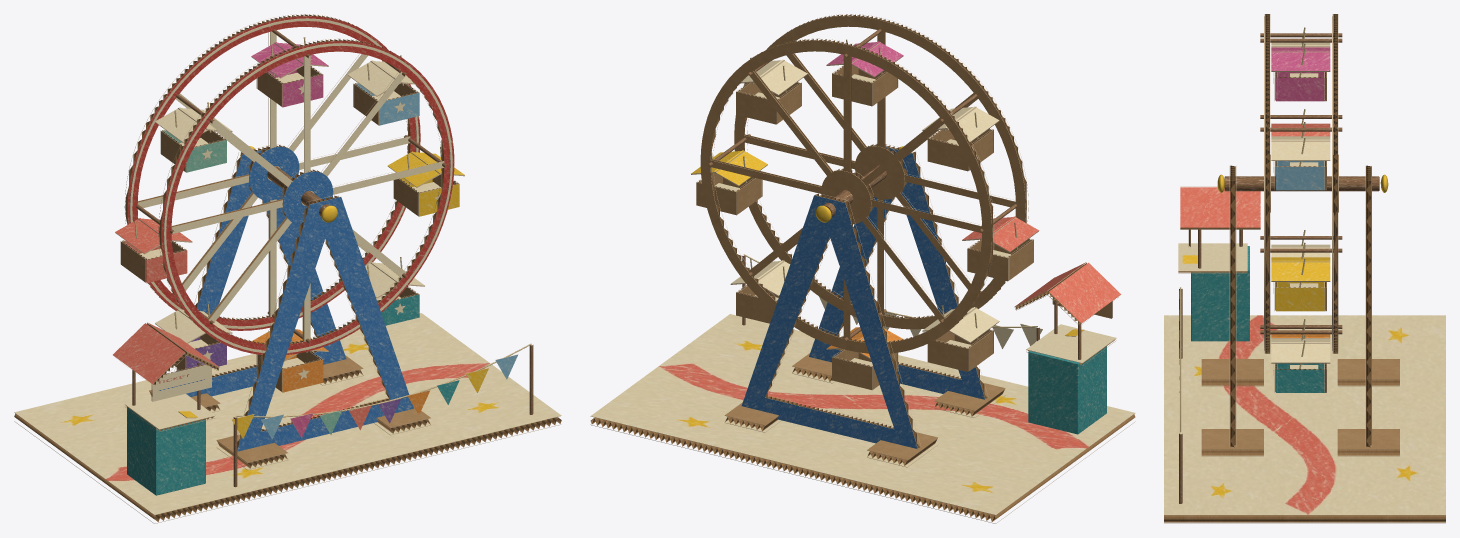
Rendered from 18_wishwheel.glb.
The picture shows the model from 3 angles, left to right: view 1: azimuth 30°, elevation 25°; view 2: azimuth 150°, elevation 25°; view 3: azimuth 270°, elevation 25°; orthographic projection.
Parts seen in each view (by area): view 1: artwork_18_wishwheel, cream, blue, red, flute, edge, teal, kraft, coral, yellow, brown, pink (+5 smaller); view 2: kraft, artwork_18_wishwheel, blue, flute, edge, cream, teal, coral, brown, yellow, pink; view 3: artwork_18_wishwheel, flute, cream, edge, teal, brown, kraft, coral, yellow, pink, sky, twine.
Part boxes in pixels (x1,y1,x2,y2): artwork_18_wishwheel: (14,313,561,514); cream: (125,18,452,429); blue: (178,146,413,451); red: (127,16,454,354); flute: (14,14,561,521); edge: (14,14,561,523); teal: (127,294,459,495); kraft: (121,65,456,462); coral: (113,218,371,429); yellow: (179,146,488,438); brown: (132,29,533,487); pink: (251,42,328,437); kraft: (696,16,1111,459); artwork_18_wishwheel: (591,314,1134,514); blue: (741,147,984,448); flute: (590,14,1135,521); edge: (590,14,1135,523); cream: (714,59,1116,366); teal: (1028,346,1106,434); coral: (962,216,1121,323); brown: (708,29,1081,359); yellow: (691,146,1083,335); pink: (827,41,903,76); artwork_18_wishwheel: (1164,315,1445,514); flute: (1164,14,1445,522); cream: (1178,42,1330,369); edge: (1164,14,1445,523); teal: (1191,246,1325,392); brown: (1179,33,1379,503); kraft: (1201,359,1399,448); coral: (1180,123,1330,227); yellow: (1182,174,1388,311); pink: (1271,47,1330,101); sky: (1276,161,1325,190); twine: (1180,27,1305,432).
Bounding box in the file's own units: 0.57 × 0.525 × 0.34.
Materials: 17 (16 with a texture image).
